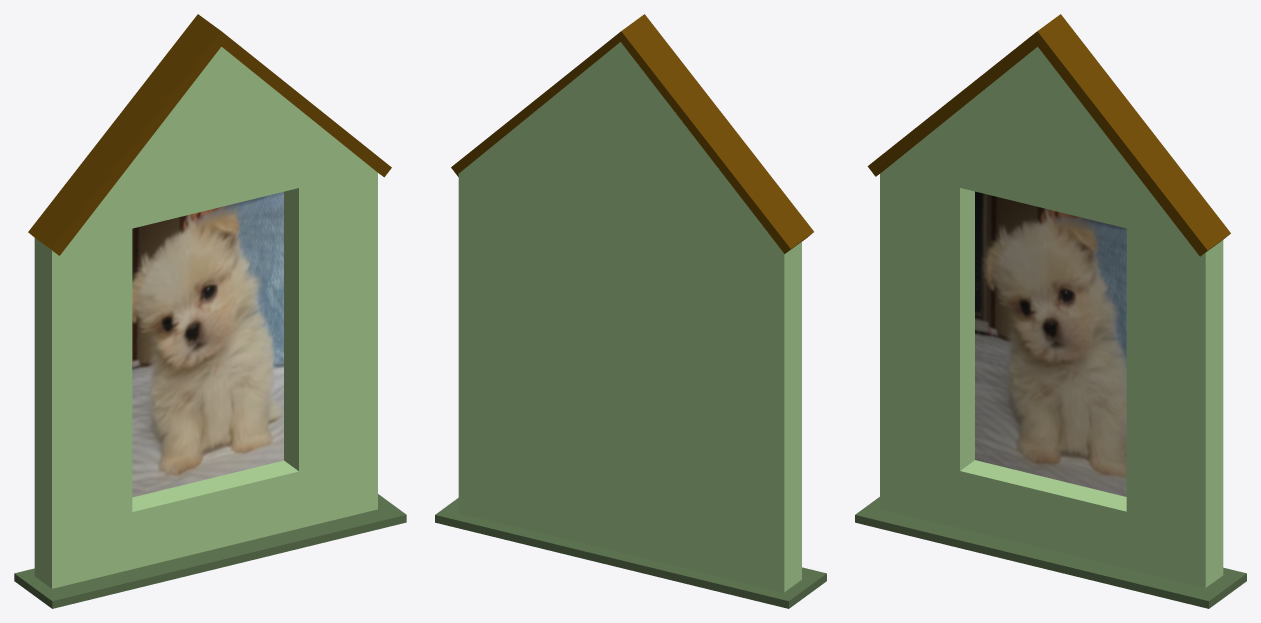
The model's file is Photo 1.FBX.
3 views of the same model, side by side, from view 1: azimuth 30°, elevation 25°; view 2: azimuth 150°, elevation 25°; view 3: azimuth 330°, elevation 25° (orthographic).
Visible parts, largest first — view 1: Photo 1; view 2: Photo 1; view 3: Photo 1.
Part boxes in pixels (x1,y1,x2,y2): Photo 1: (14,14,406,608); Photo 1: (435,14,826,608); Photo 1: (855,14,1246,608).
Size of the model in its own units: 21.74 by 31.07 by 4.05.
